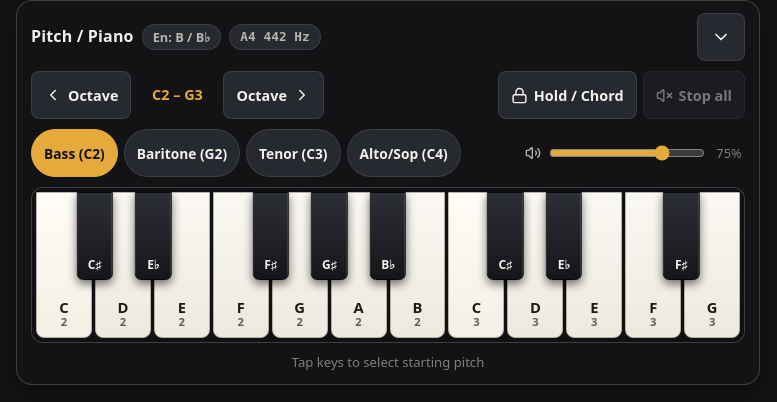
Test case: MetronomeOverlay & PianoOverlay UI › supports English note naming (Bb/B) and octave shifts in PianoOverlay
The image size is (777, 402).
Expected: the button named "B♭2" is shown, [370,192,406,280]
Expected: the button named "B2" is shown, [390,192,445,338]
Click the button with aria-label "Octave up" at (274, 95), box [224,71,324,119]
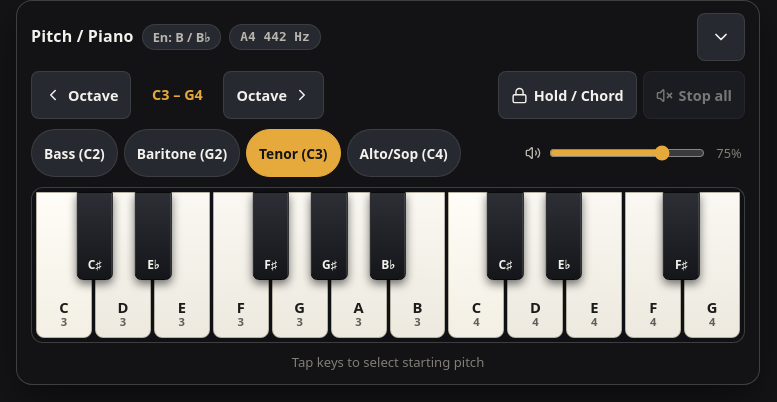
Expected: the text "C3 – G4" is shown, [152,85,203,104]
